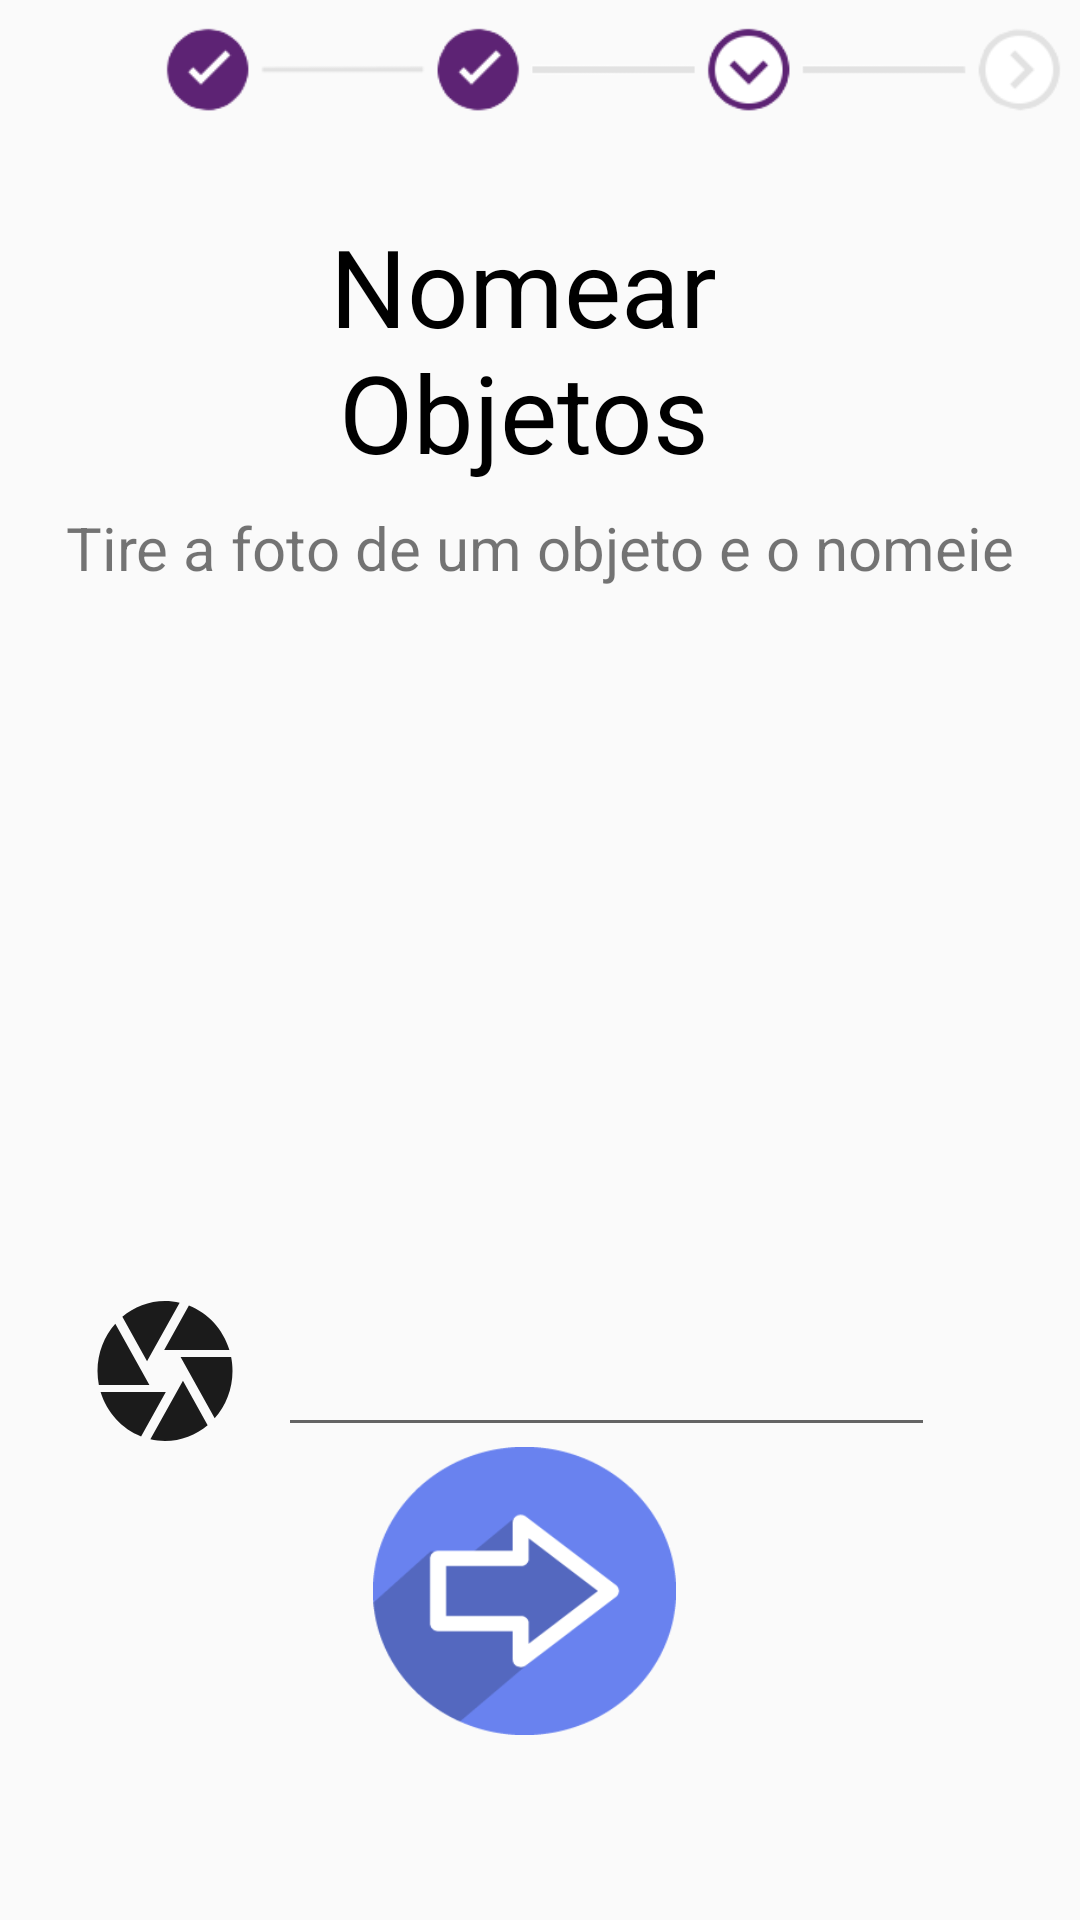

Icons on this 1080px×1920px Android screen, each with its box as (x1, y1, x2, y2):
arrow: (373, 1447, 676, 1735)
camera: (97, 1301, 233, 1441)
